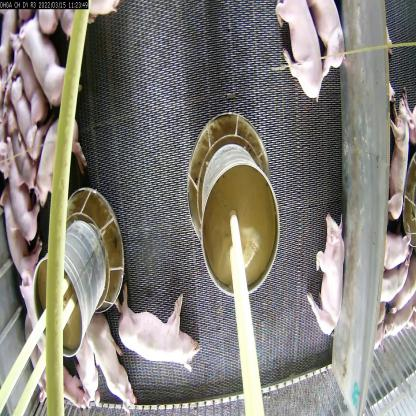Pig: (114, 286, 201, 370), (266, 0, 322, 103), (86, 317, 142, 415), (309, 208, 346, 350), (19, 17, 72, 114), (301, 0, 355, 80), (34, 119, 84, 204), (0, 130, 32, 243)
